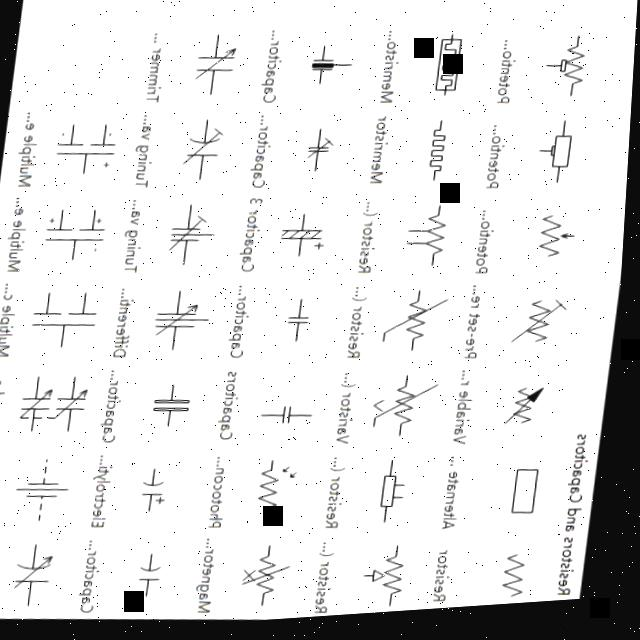capacitor: (183, 35, 244, 96), (10, 545, 67, 601), (174, 123, 234, 176), (17, 372, 63, 434), (276, 215, 337, 259), (53, 373, 95, 433), (302, 46, 349, 89), (135, 550, 175, 600), (150, 389, 202, 424), (300, 130, 341, 173), (139, 474, 179, 513), (285, 301, 321, 343), (270, 401, 313, 434)
resistor: (370, 368, 446, 449), (382, 290, 455, 357), (399, 209, 462, 274), (368, 547, 425, 617), (251, 462, 311, 525), (514, 298, 575, 359), (425, 37, 476, 108), (244, 544, 299, 609), (544, 38, 597, 105), (536, 127, 587, 189), (533, 213, 587, 271), (418, 124, 465, 189), (507, 468, 554, 531), (508, 389, 557, 439), (502, 554, 539, 608), (382, 474, 417, 520)
